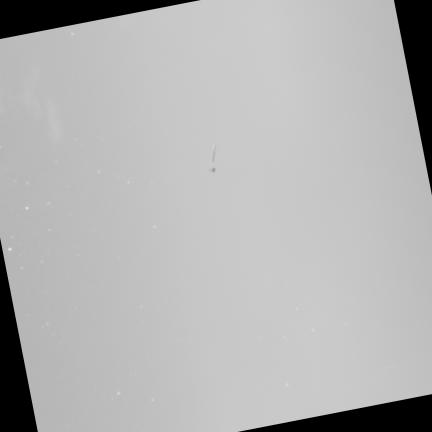Shahed: (208, 144, 215, 171)
